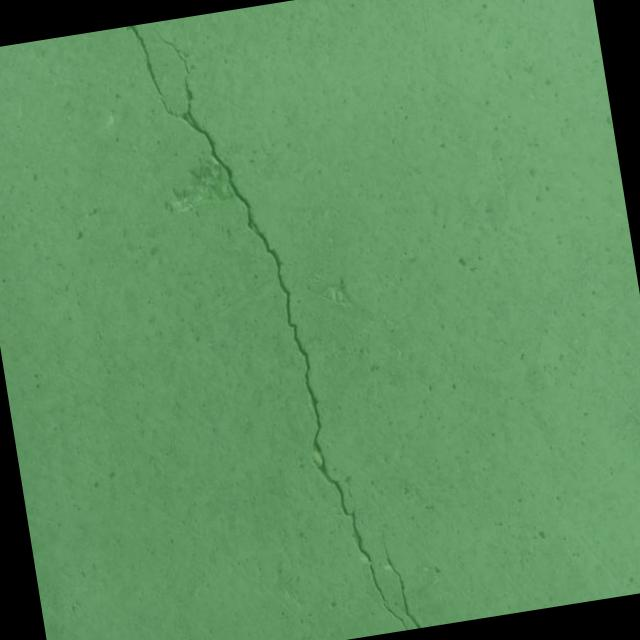crack: (125, 0, 408, 640), (360, 512, 423, 635)
